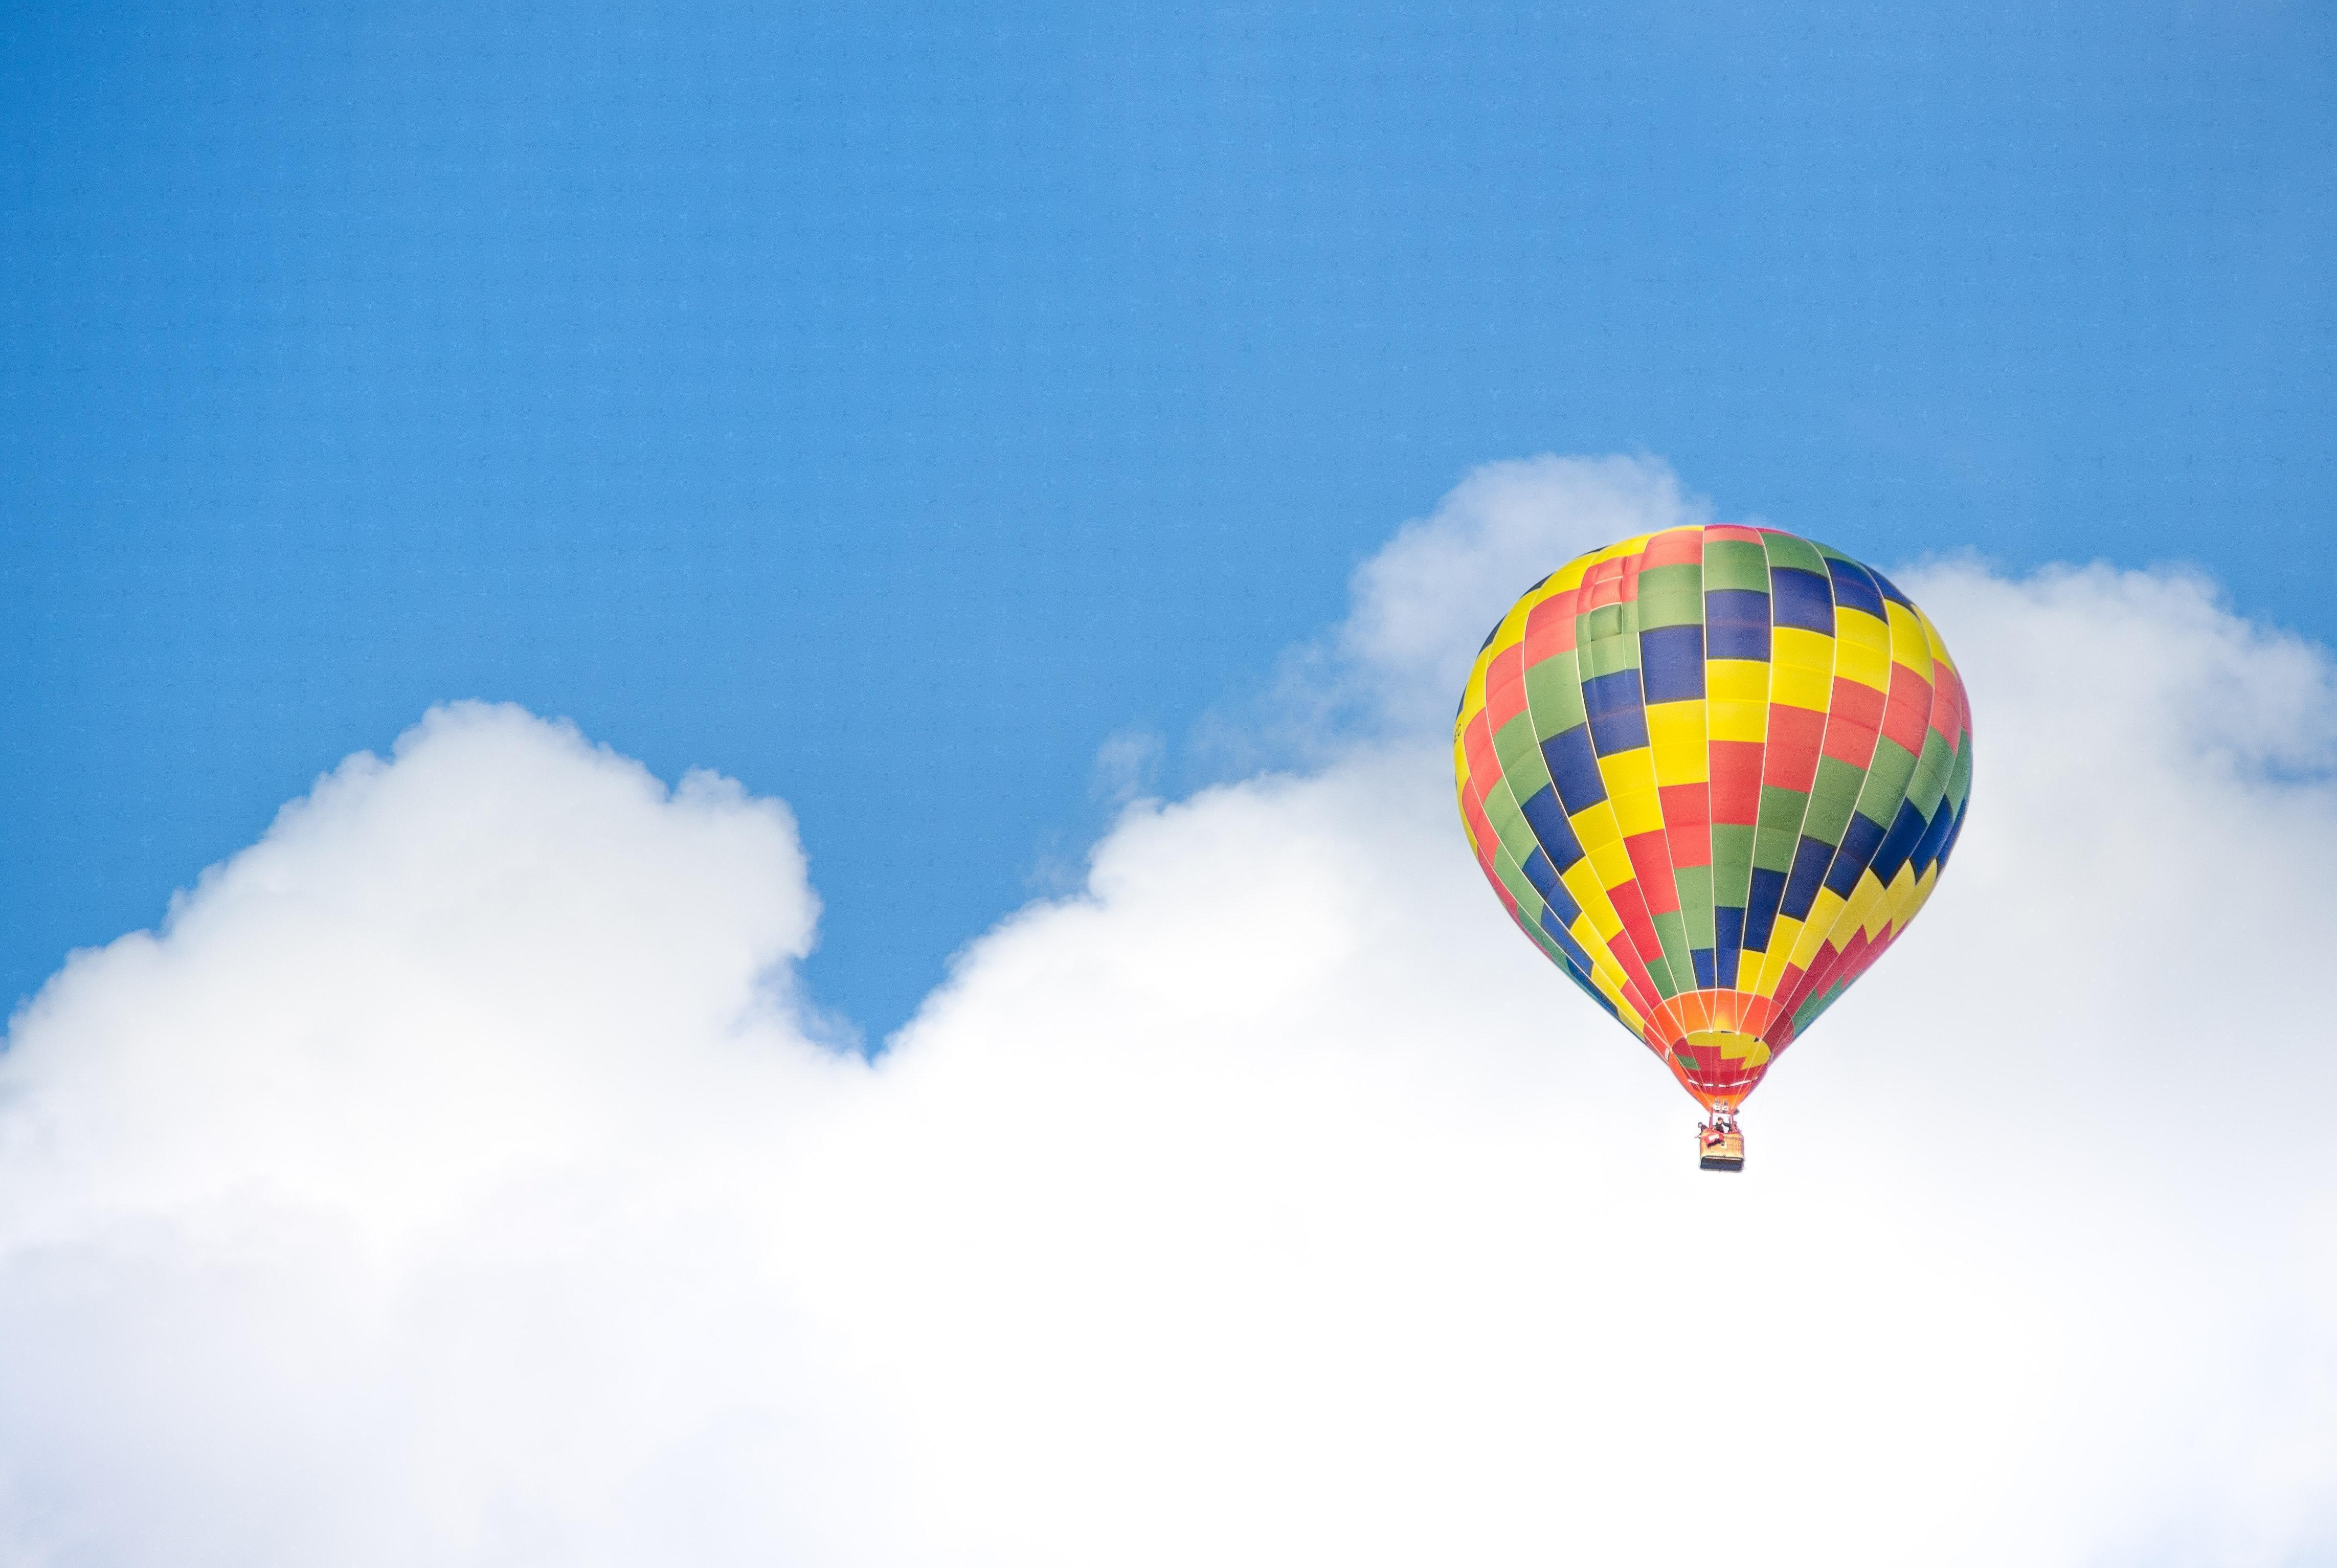hot air ballon: (1454, 500, 1980, 1186)
